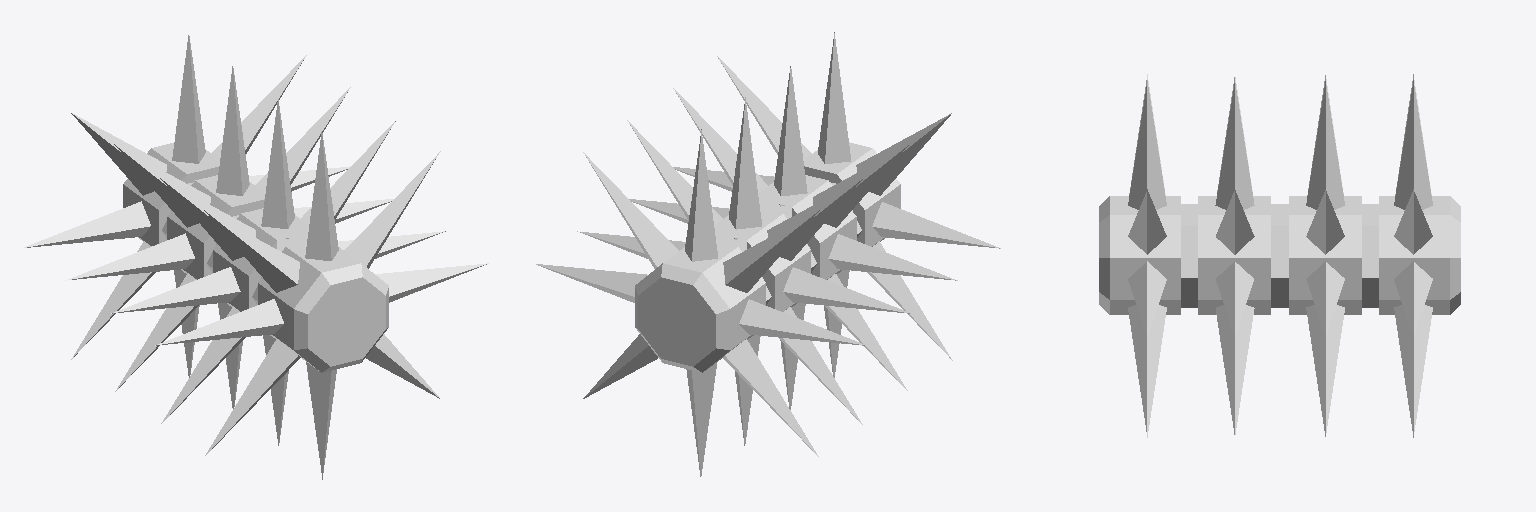
File: cmn_obj_thorngrind_SD.obj
The picture shows the model from 3 angles: view 1: azimuth 30°, elevation 25°; view 2: azimuth 150°, elevation 25°; view 3: azimuth 270°, elevation 25°; orthographic projection.
Visible parts, largest first — view 1: polygon2, polygon4, polygon1, polygon3; view 2: polygon4, polygon2, polygon3, polygon1, polygon0; view 3: polygon2, polygon4, polygon3, polygon1, polygon0.
Boxes of the visible parts, x1=… form: polygon2: x1=65, y1=66, x2=488, y2=479; polygon4: x1=24, y1=35, x2=445, y2=445; polygon1: x1=167, y1=175, x2=388, y2=372; polygon3: x1=123, y1=143, x2=308, y2=338; polygon4: x1=536, y1=66, x2=957, y2=476; polygon2: x1=577, y1=32, x2=1000, y2=445; polygon3: x1=635, y1=175, x2=856, y2=372; polygon1: x1=714, y1=142, x2=900, y2=339; polygon0: x1=715, y1=182, x2=861, y2=305; polygon2: x1=1128, y1=74, x2=1344, y2=437; polygon4: x1=1215, y1=74, x2=1432, y2=437; polygon3: x1=1198, y1=196, x2=1460, y2=314; polygon1: x1=1099, y1=196, x2=1361, y2=314; polygon0: x1=1181, y1=204, x2=1378, y2=307.
Size of the model in its own units: 21.44 by 21.44 by 20.04.